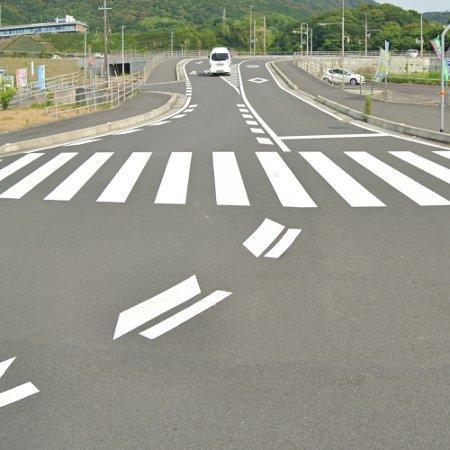crosswalk: (0, 150, 450, 210)
